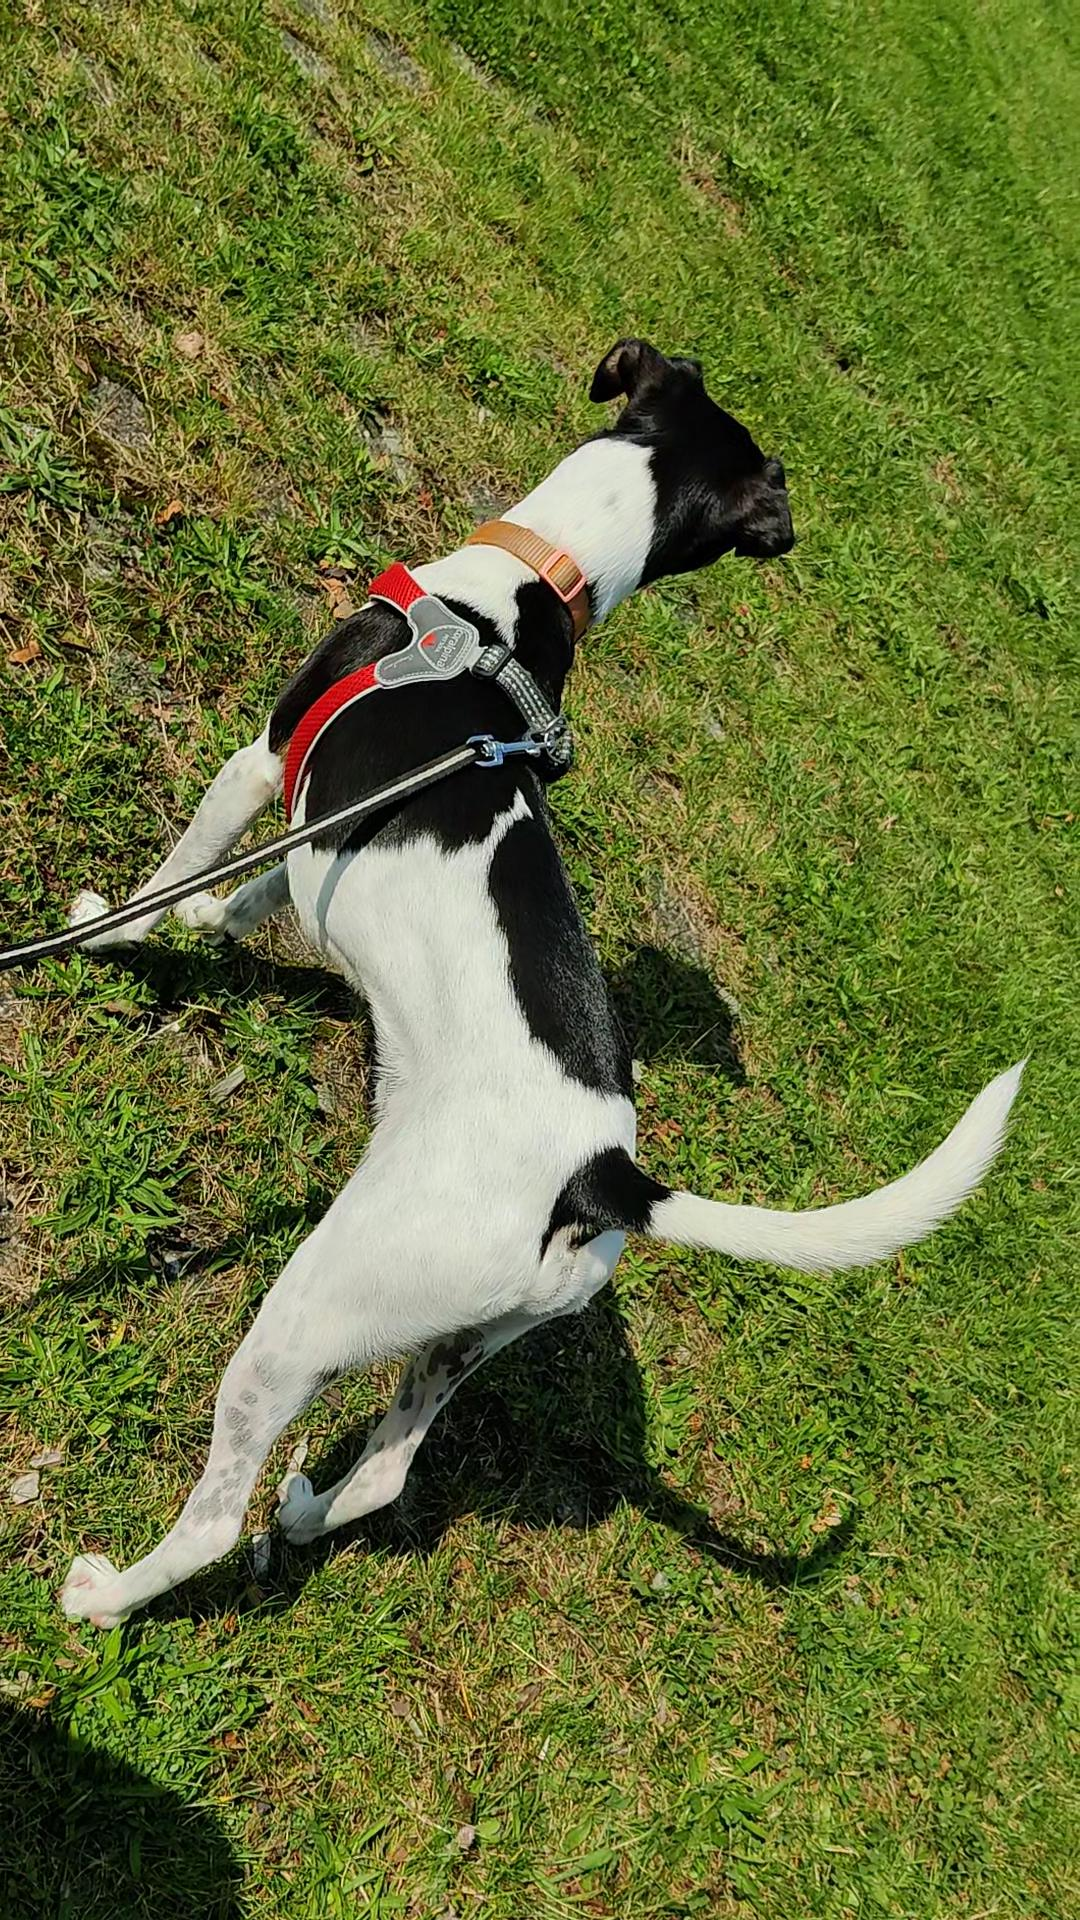Dog: (49, 328, 1033, 1635)
